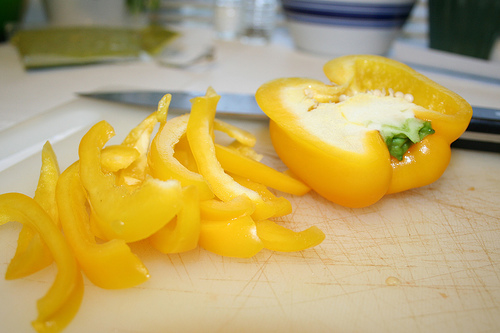capsicum: (254, 56, 472, 211)
